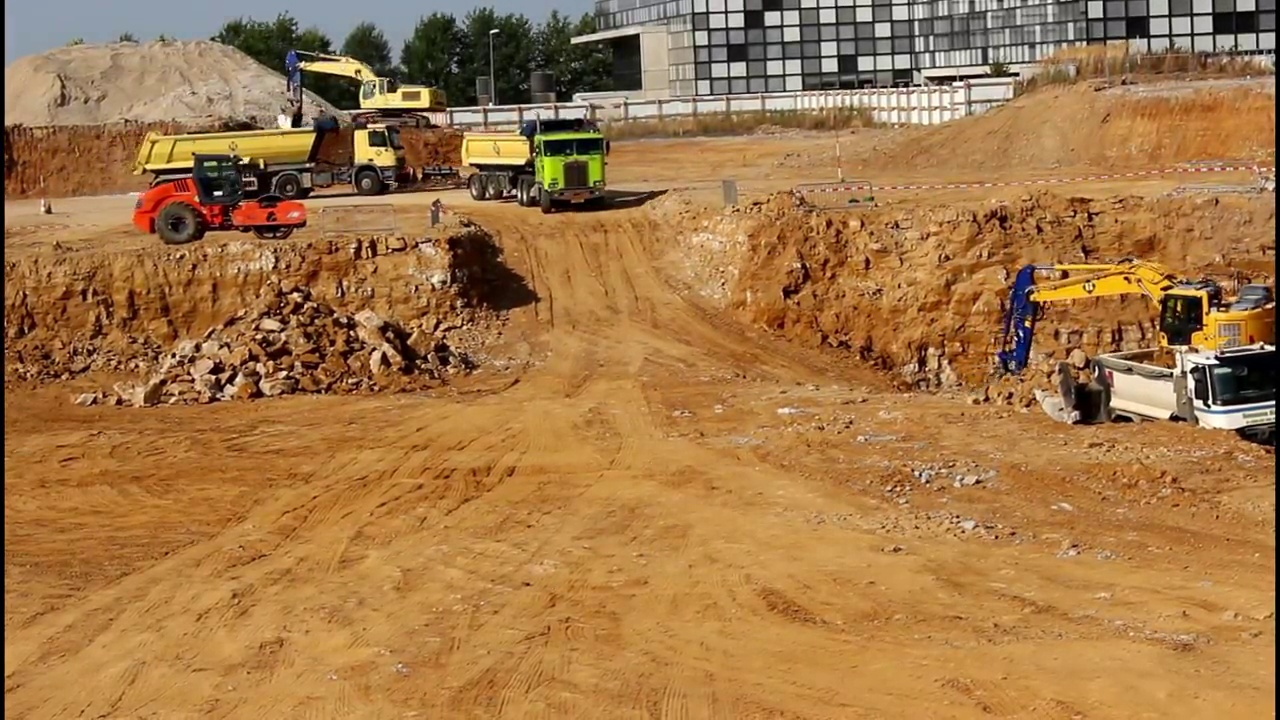compactor: (130, 151, 307, 245)
excavator: (981, 254, 1280, 406), (275, 44, 451, 137)
truck: (1085, 338, 1280, 465), (131, 123, 412, 199), (460, 109, 616, 216)
